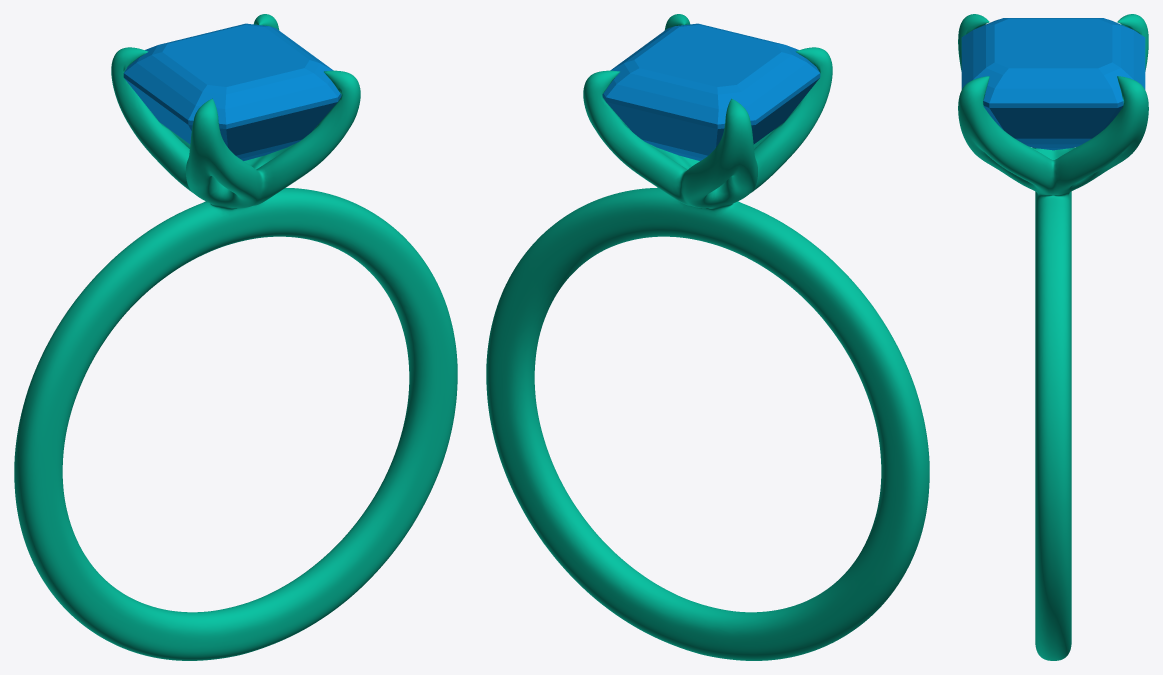
The model's file is BE1901_AS_200ct_RENDER.glb.
3 renders of one model, left to right at view 1: azimuth 30°, elevation 25°; view 2: azimuth 150°, elevation 25°; view 3: azimuth 270°, elevation 25°, orthographic.
Visible parts, largest first — view 1: Metal 01, CS_Diamond_Emerald Square; view 2: Metal 01, CS_Diamond_Emerald Square; view 3: Metal 01, CS_Diamond_Emerald Square.
Boxes of the visible parts, bbox=[...] form: Metal 01: bbox=[14, 14, 457, 660]; CS_Diamond_Emerald Square: bbox=[123, 23, 341, 160]; Metal 01: bbox=[486, 14, 929, 660]; CS_Diamond_Emerald Square: bbox=[602, 23, 820, 160]; Metal 01: bbox=[958, 14, 1148, 660]; CS_Diamond_Emerald Square: bbox=[961, 18, 1145, 150].
Bounding box in the file's own units: 20.49 × 26.75 × 7.78.
